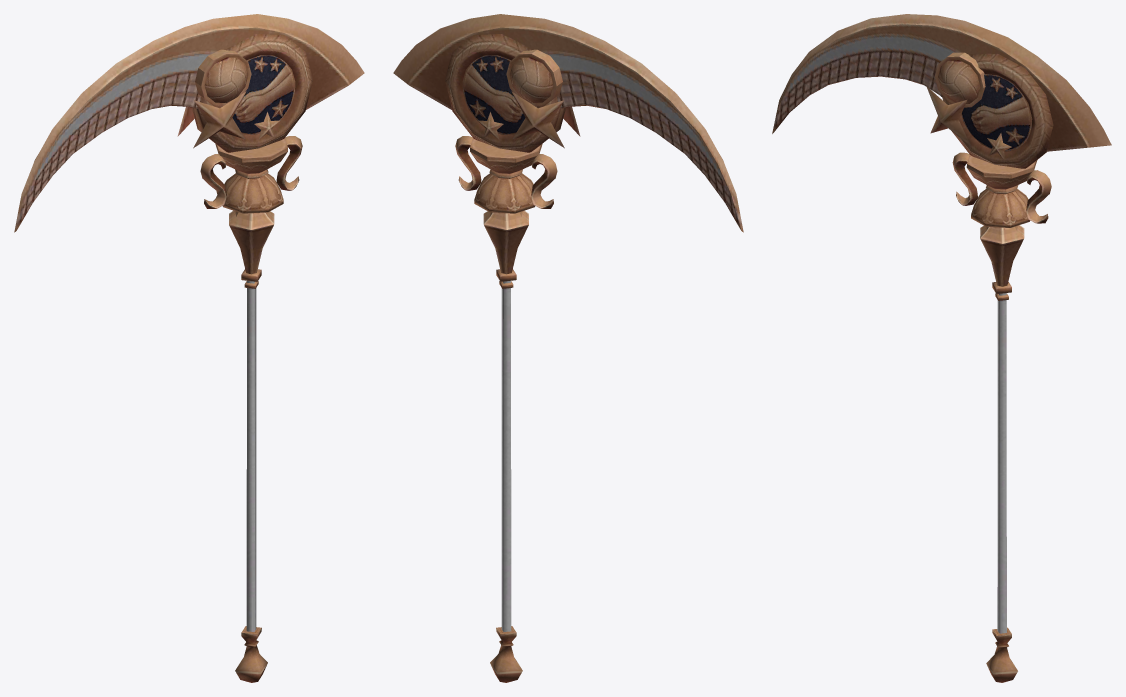
The model's file is Weapon24.FBX.
3 views of the same model, side by side, from view 1: azimuth 30°, elevation 25°; view 2: azimuth 150°, elevation 25°; view 3: azimuth 330°, elevation 25° (orthographic). The views are drawn at different scales.
Visible parts, largest first — view 1: Weapon24; view 2: Weapon24; view 3: Weapon24.
Part boxes in pixels (<box>): Weapon24: <box>14,14,364,682</box>; Weapon24: <box>393,14,743,682</box>; Weapon24: <box>772,14,1111,682</box>.
Bounding box in the file's own units: 117 × 215 × 21.94.
